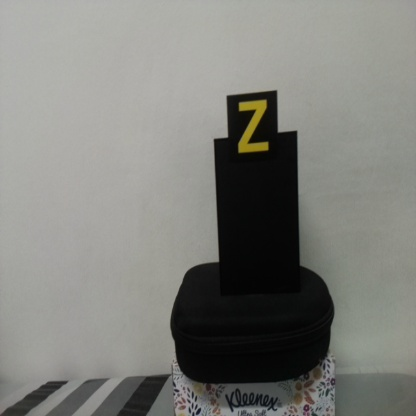id_15: (226, 95, 278, 161)
